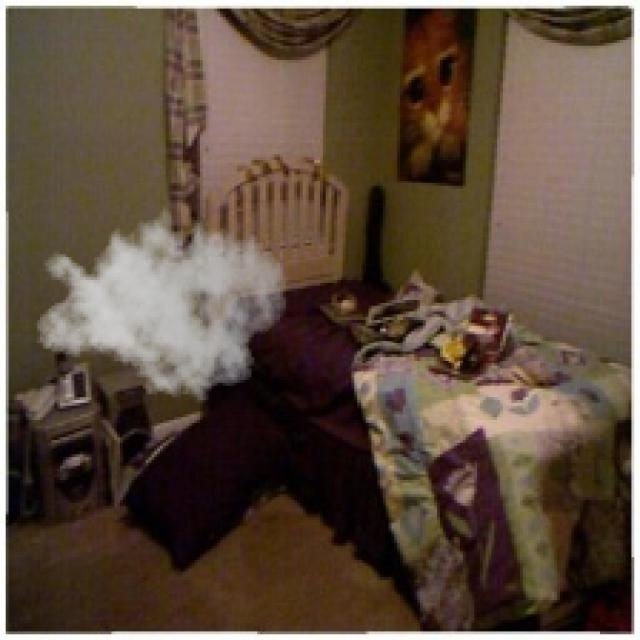smoke: (34, 197, 289, 409)
